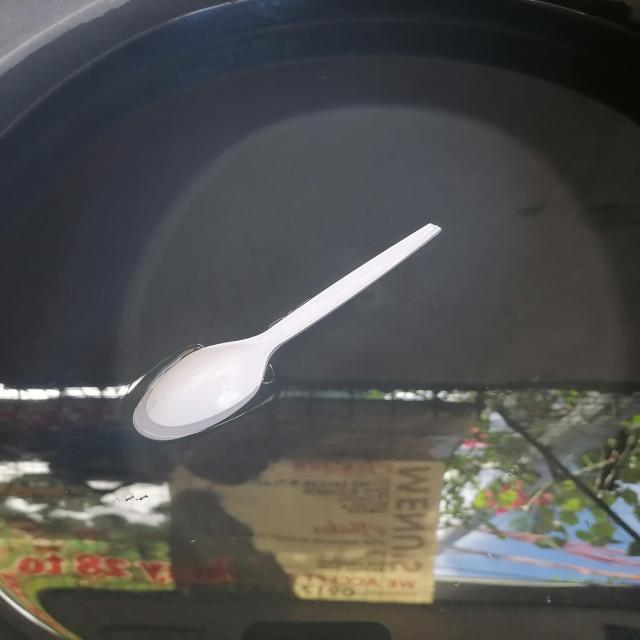Plastic Spoon: (133, 224, 441, 440)
